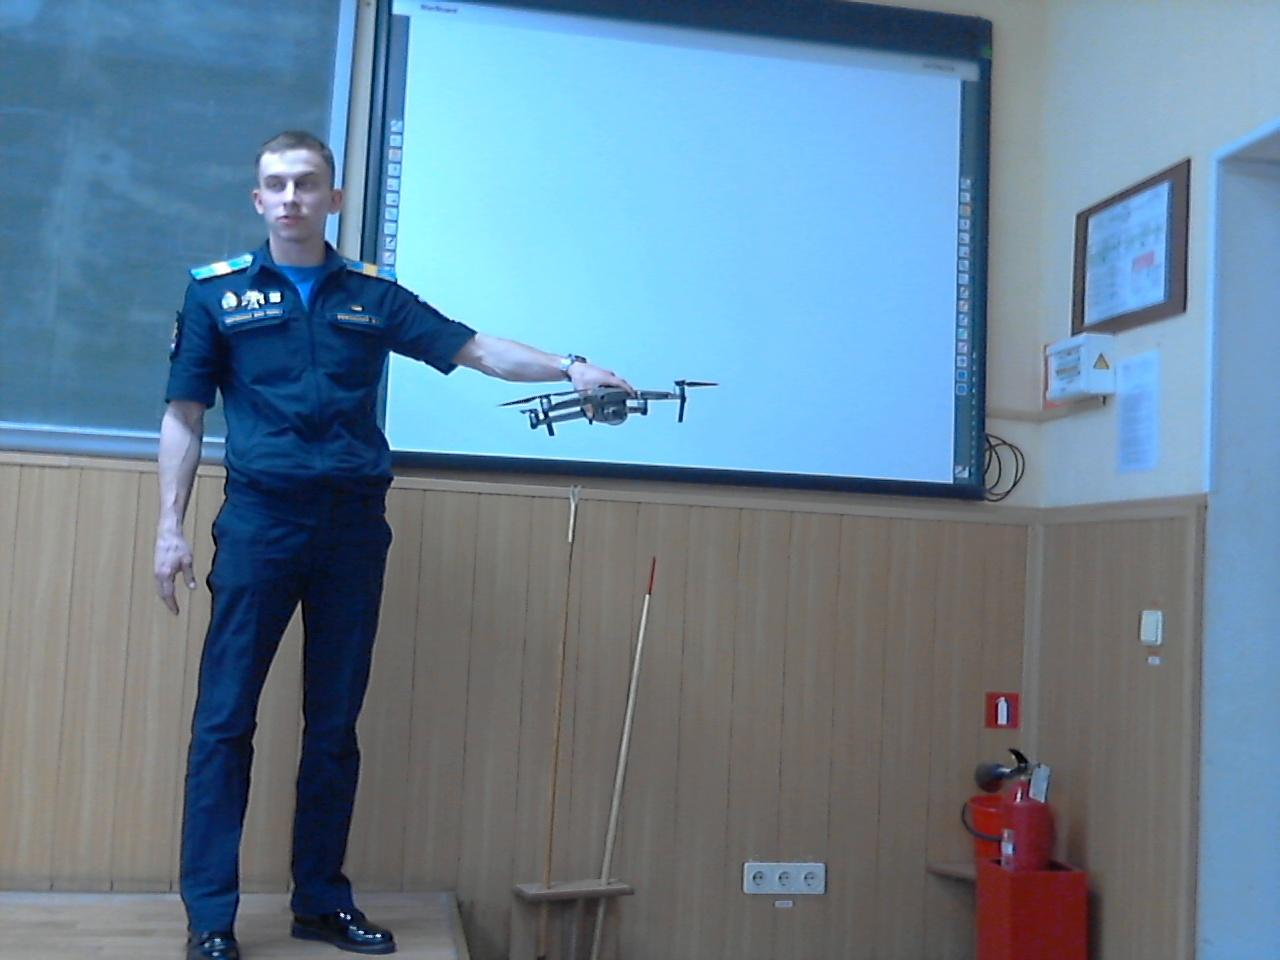drone: (494, 354, 721, 460)
